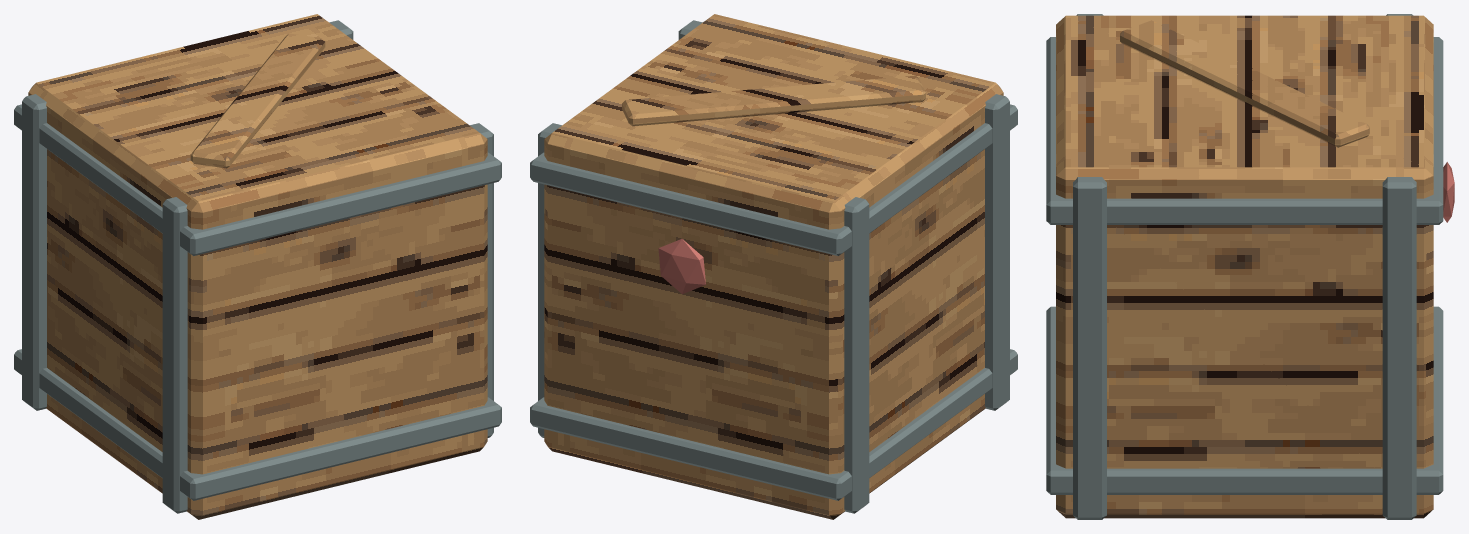
The model's file is caixa.glb.
3 renders of one model, left to right at view 1: azimuth 30°, elevation 25°; view 2: azimuth 150°, elevation 25°; view 3: azimuth 270°, elevation 25°, orthographic. The views are drawn at different scales.
Parts seen in each view (by area): view 1: deserto_caixa; view 2: deserto_caixa; view 3: deserto_caixa.
Boxes of the visible parts, bbox=[...] form: deserto_caixa: bbox=[14, 14, 501, 519]; deserto_caixa: bbox=[530, 14, 1017, 519]; deserto_caixa: bbox=[1046, 14, 1454, 519].
Bounding box in the file's own units: 0.842 × 0.832 × 0.8433.
3 materials, 1 textured.
